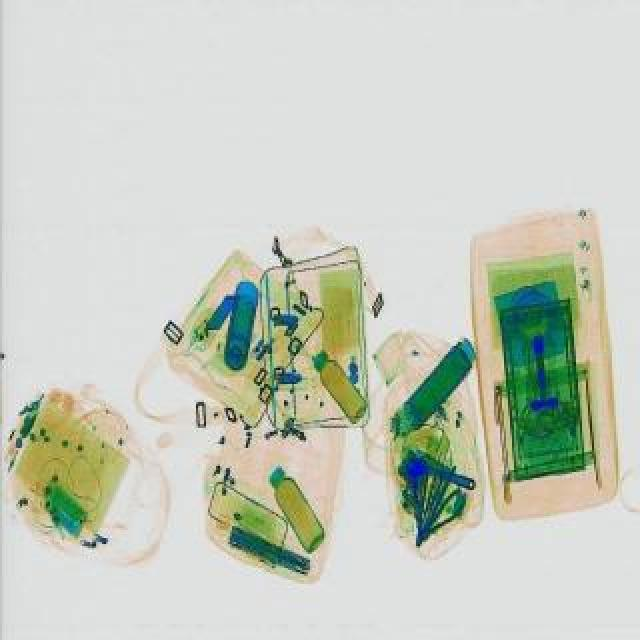scissors: (402, 456, 478, 494)
wrench: (412, 486, 472, 542)
